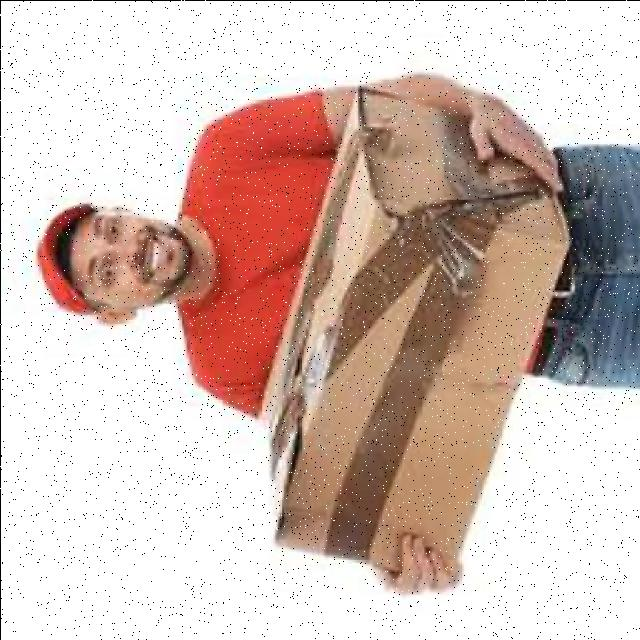normal: (262, 86, 576, 571)
